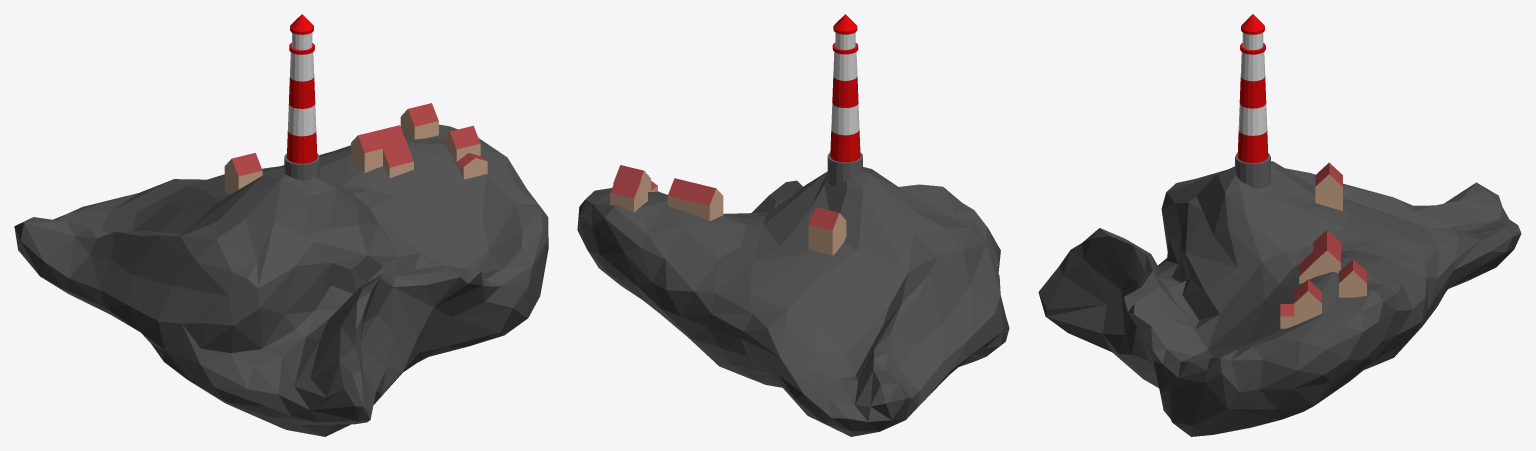
File: LittleVillage_course1.fbx
The picture shows the model from 3 angles, left to right: view 1: azimuth 30°, elevation 25°; view 2: azimuth 150°, elevation 25°; view 3: azimuth 270°, elevation 25°; orthographic projection.
Parts seen in each view (by area): view 1: base rocks, lighthouse, Cube.005, Cube.006, Cube.001, Cube.002; view 2: base rocks, lighthouse, Cube.005, Cube.001, Cube.002, Cube.006; view 3: base rocks, lighthouse, Cube.005, Cube.006, Cube.001, Cube.002.
Part boxes in pixels (x1,y1,x2,y2): base rocks: (14, 124, 548, 436); lighthouse: (284, 14, 319, 180); Cube.005: (351, 125, 413, 177); Cube.006: (442, 125, 487, 179); Cube.001: (224, 153, 262, 193); Cube.002: (400, 103, 438, 139); base rocks: (577, 167, 1009, 436); lighthouse: (827, 14, 862, 185); Cube.005: (667, 178, 723, 221); Cube.001: (808, 207, 846, 255); Cube.002: (610, 175, 647, 212); Cube.006: (613, 165, 657, 191); base rocks: (1038, 161, 1521, 436); lighthouse: (1235, 14, 1270, 188); Cube.005: (1299, 230, 1340, 284); Cube.006: (1280, 279, 1321, 328); Cube.001: (1315, 162, 1342, 211); Cube.002: (1339, 259, 1366, 297).
Size of what is drawn, in the model's own units: 650 by 580 by 662.
